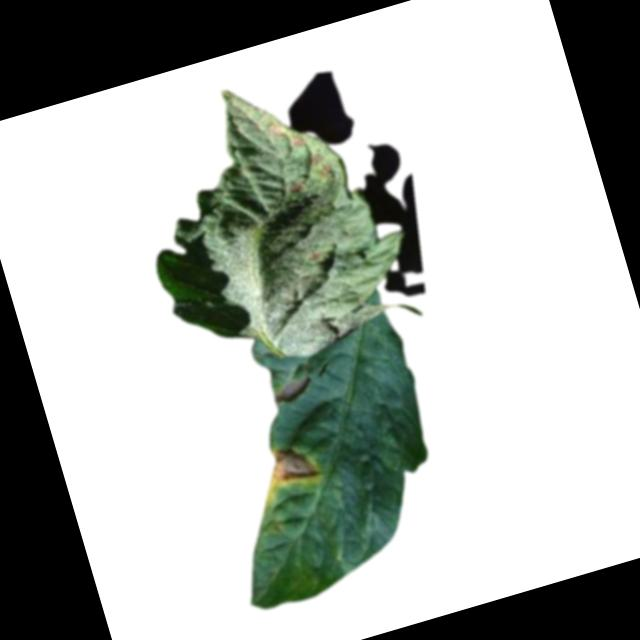Early_blight: (260, 439, 319, 489), (308, 148, 325, 167), (285, 178, 305, 194), (290, 132, 308, 149), (318, 159, 335, 174)
